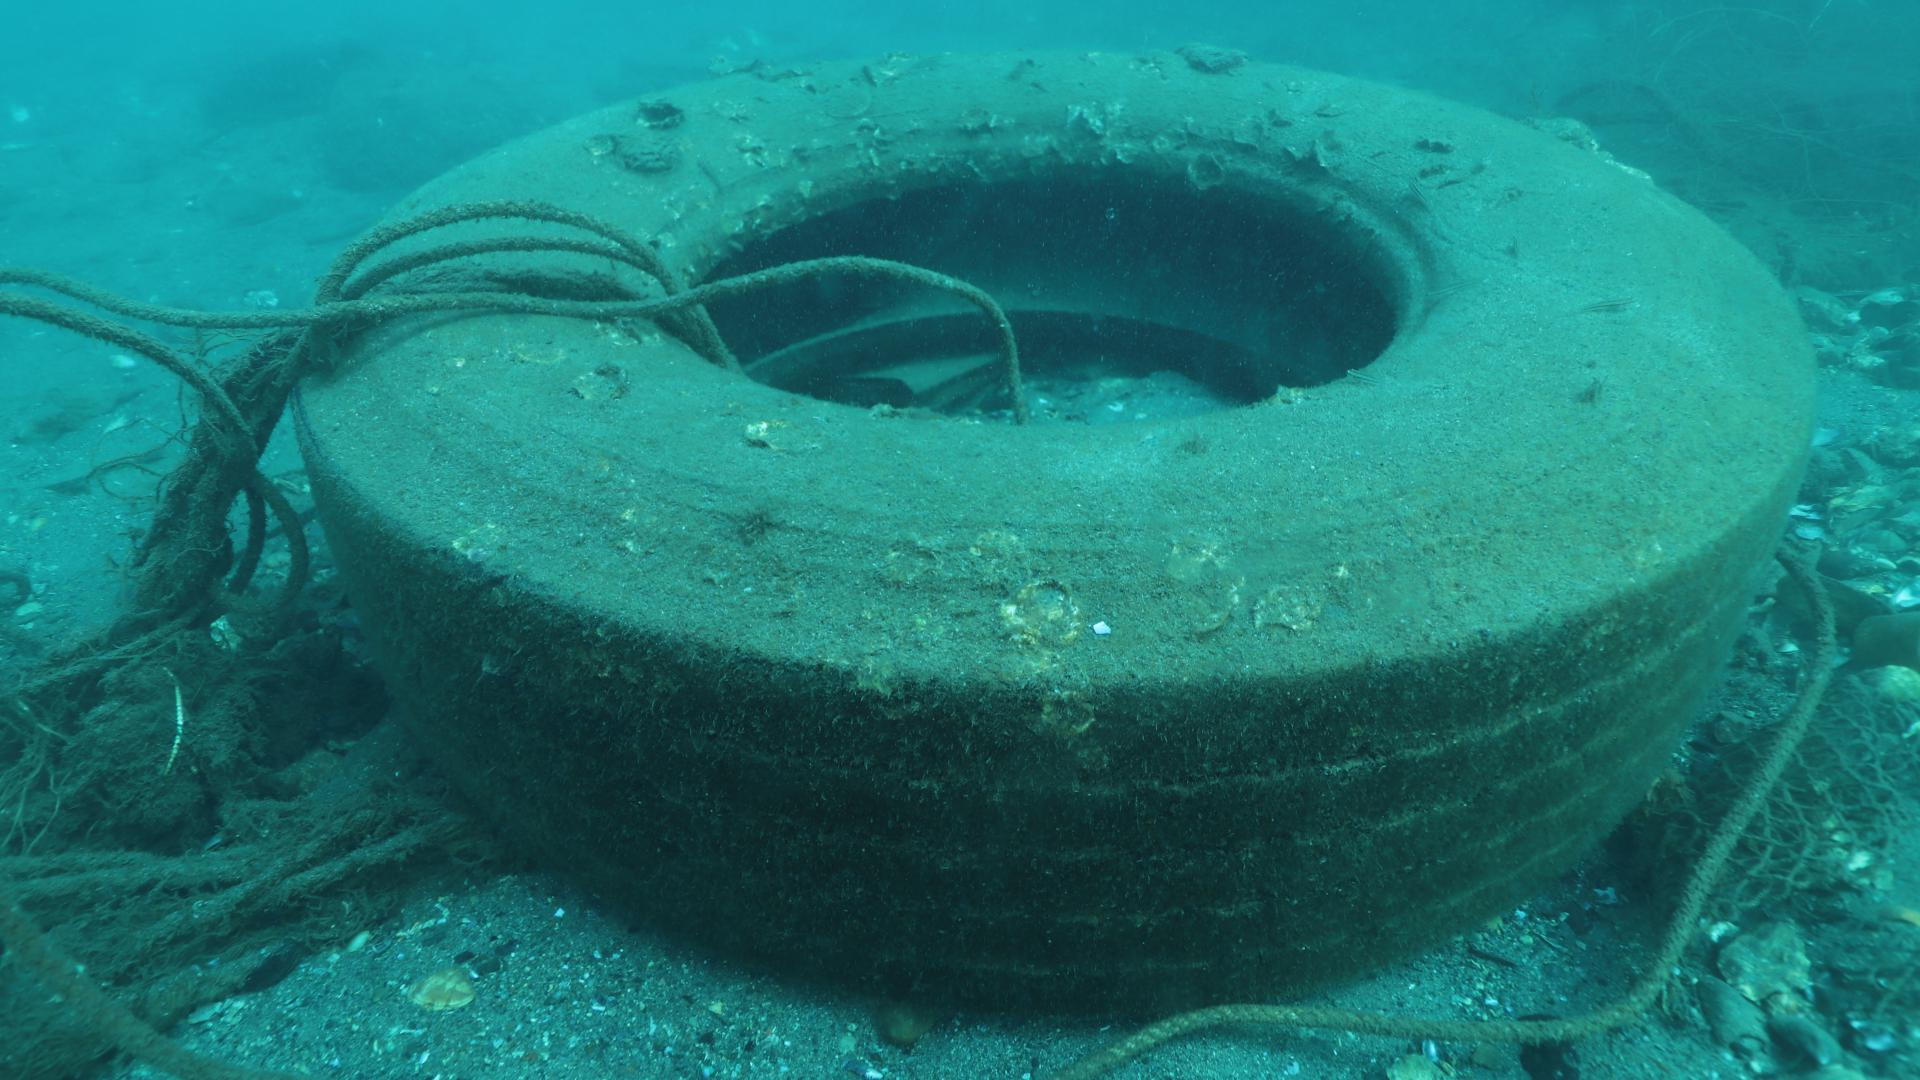bundle of ropes: (0, 194, 1031, 1080)
fish net: (1655, 690, 1920, 916)
rope: (1052, 541, 1836, 1080)
tire: (290, 44, 1822, 1021)
